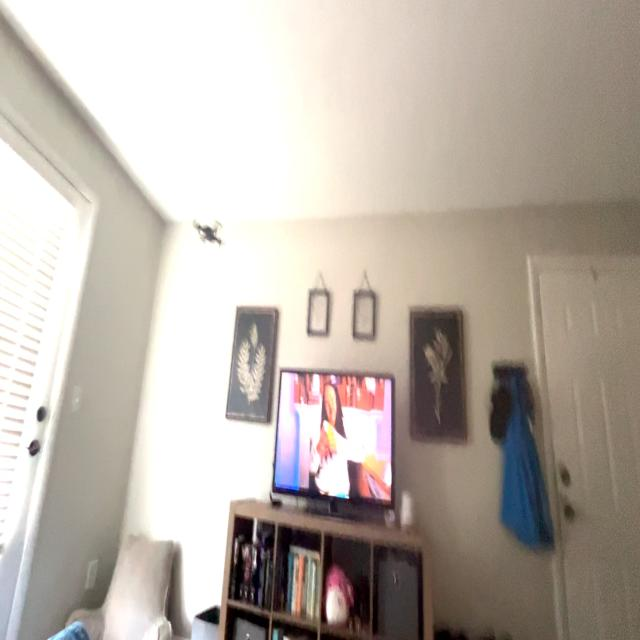drone: (189, 199, 231, 257)
